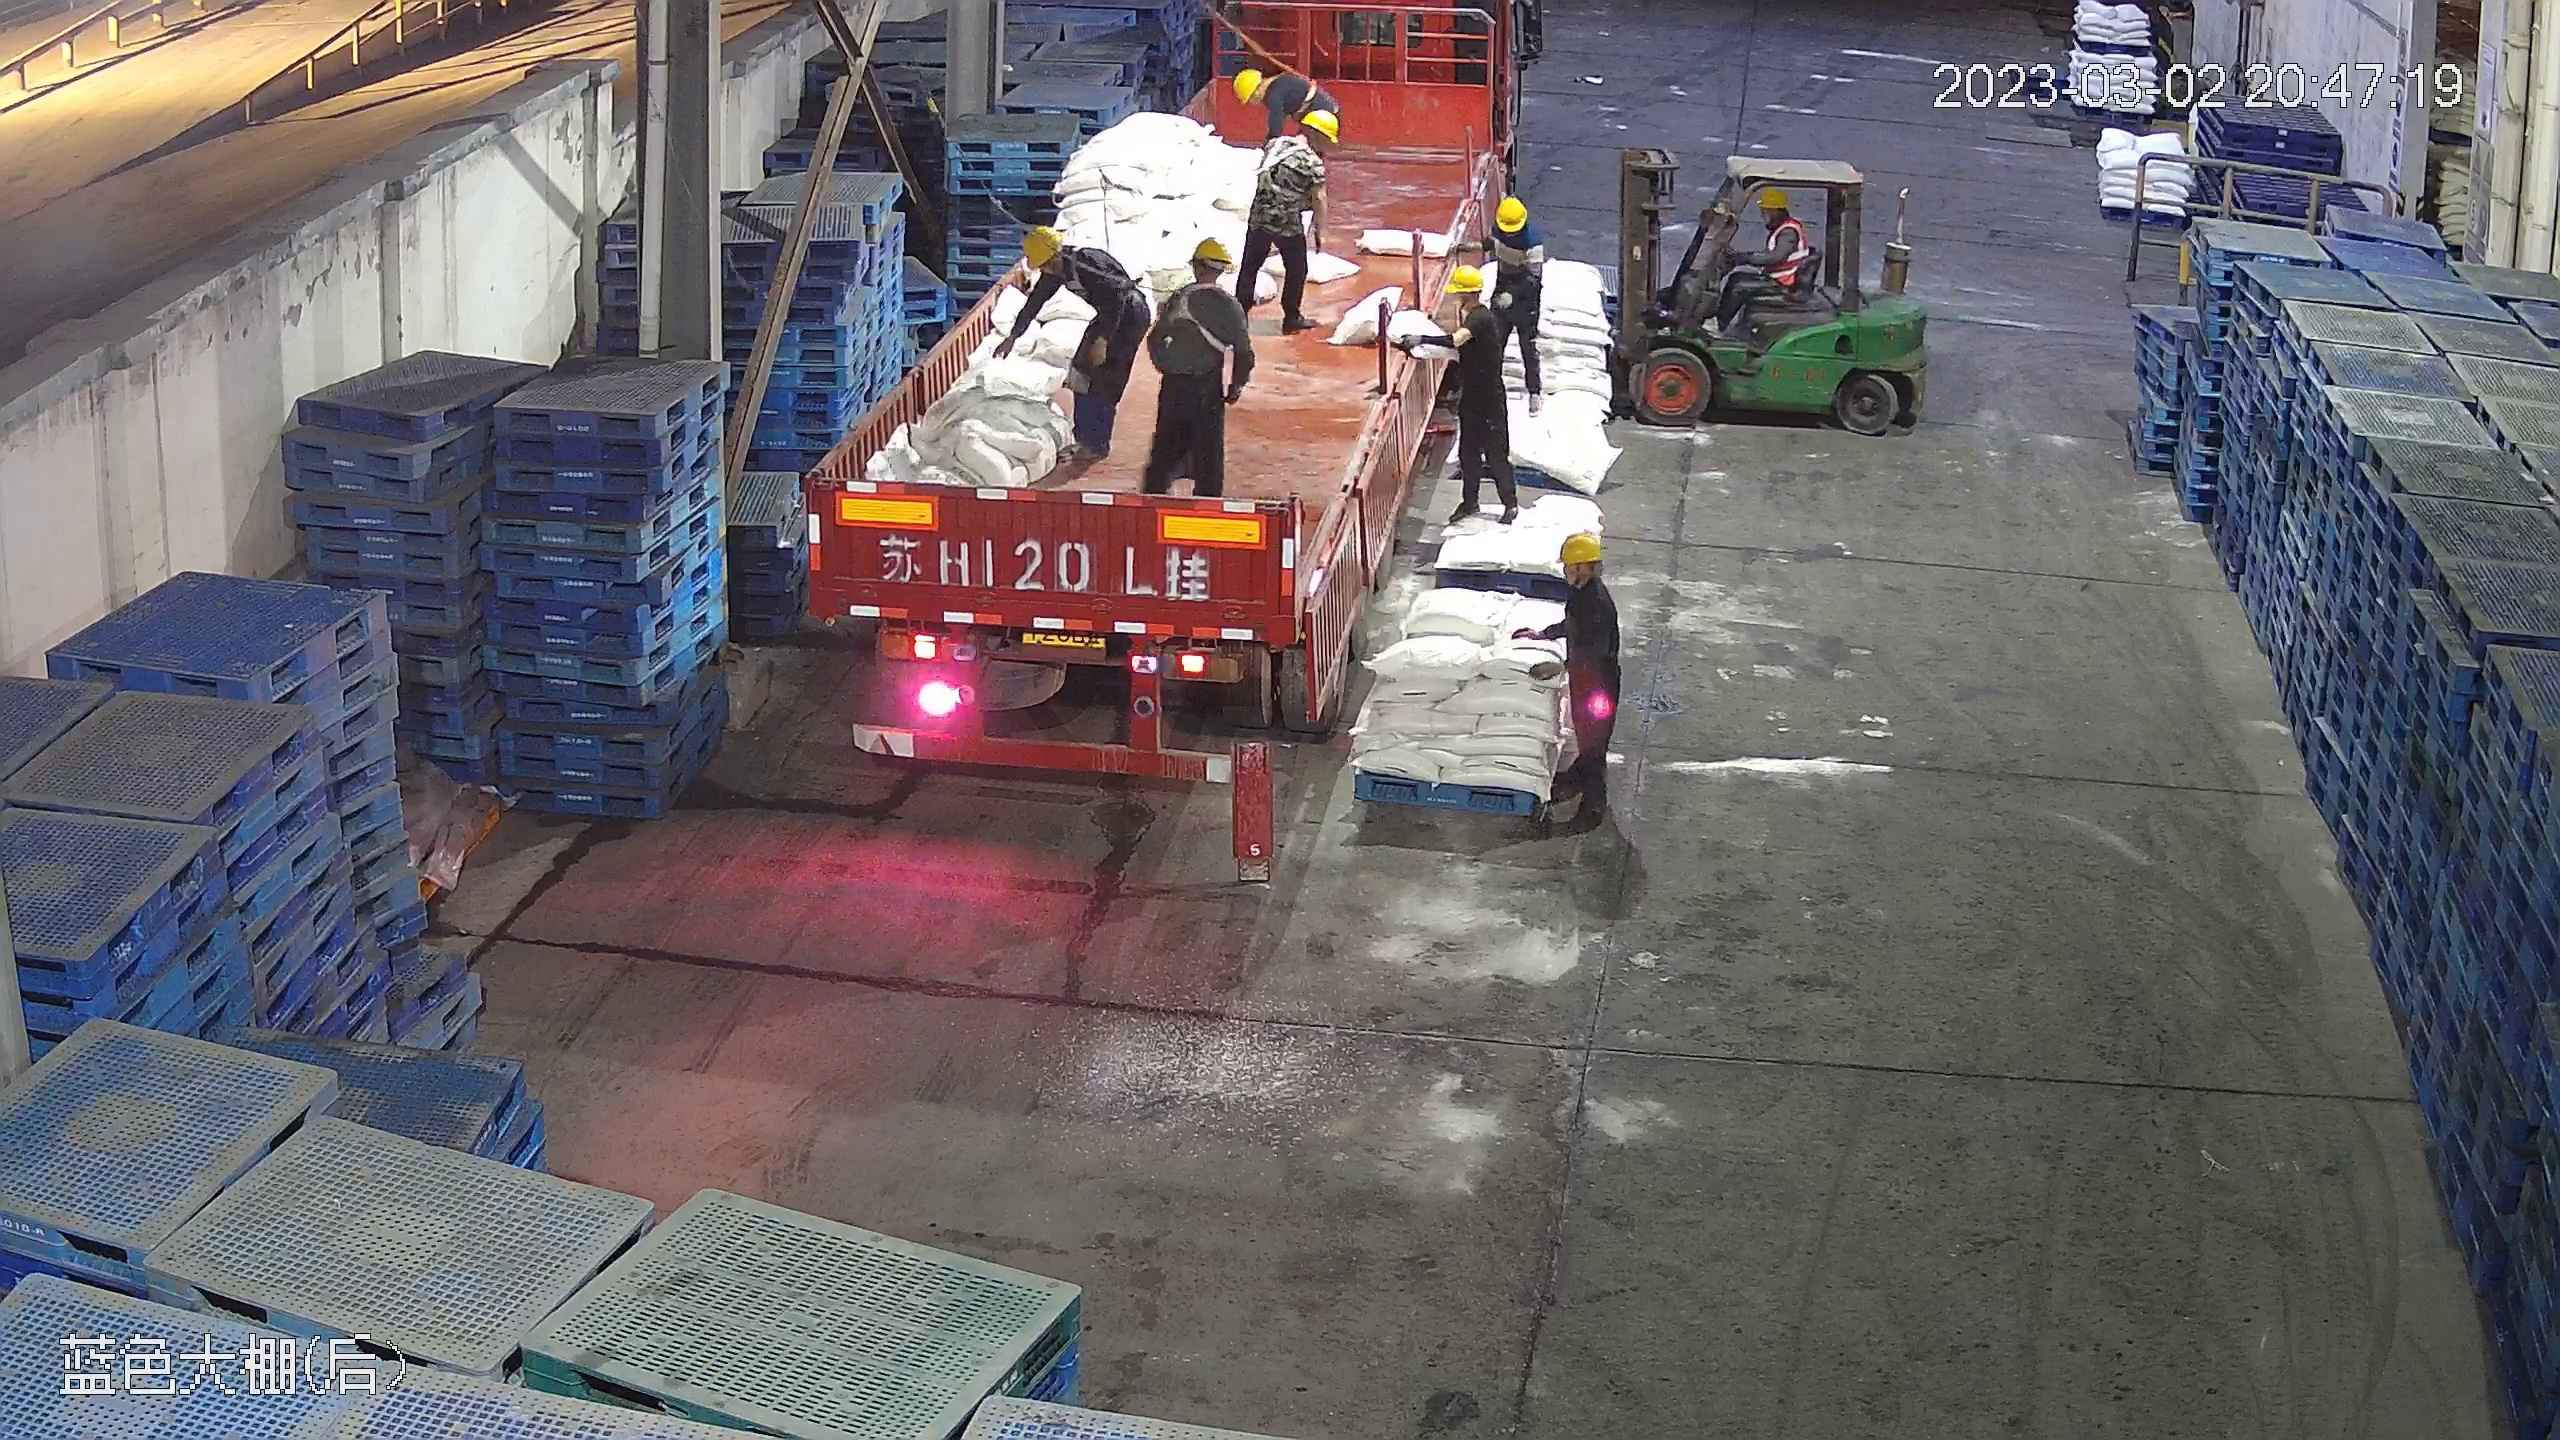belt: (1153, 282, 1226, 353), (1159, 286, 1231, 354), (1063, 242, 1135, 308), (1251, 138, 1315, 199), (1262, 66, 1312, 112), (1060, 241, 1090, 295)
head: (1148, 236, 1245, 325), (1245, 84, 1336, 166), (1022, 224, 1112, 301), (1551, 532, 1620, 628), (1440, 268, 1503, 353), (1486, 196, 1546, 274), (1231, 65, 1299, 111), (1756, 187, 1807, 247), (1187, 235, 1234, 271)
helmet: (1754, 186, 1803, 240), (1021, 223, 1065, 269), (1556, 530, 1605, 565), (1189, 236, 1234, 269), (1446, 264, 1489, 296), (1494, 195, 1529, 230), (1303, 111, 1341, 143), (1235, 66, 1265, 102), (1757, 186, 1790, 208)
people: (1004, 224, 1148, 456), (1137, 234, 1255, 492), (1532, 532, 1624, 829), (1243, 110, 1338, 335), (1438, 268, 1521, 524), (1485, 195, 1550, 417), (1713, 185, 1809, 331), (1238, 71, 1338, 163)
truck: (797, 33, 1488, 774)
